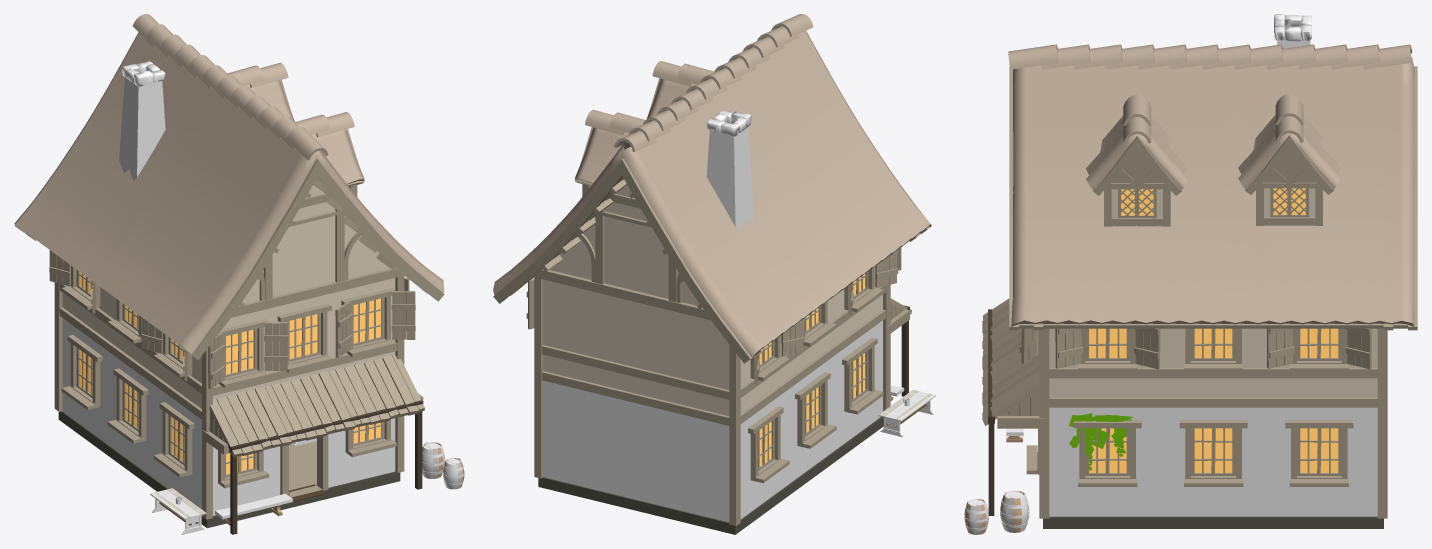
File: eastbrook_inn.glb
3 views of the same model, side by side, from view 1: azimuth 30°, elevation 25°; view 2: azimuth 150°, elevation 25°; view 3: azimuth 270°, elevation 25° (orthographic). The views are drawn at different scales.
Visible parts, largest first — view 1: inn:upper:village/MI_RoundTiles, inn:upper:village/MI_WoodTrim, inn:upper:village/MI_Plaster, inn:porch:village/MI_WoodTrim_Wear, inn:wall-left:village/MI_UnevenBrick, inn:wall-left:village/MI_WoodTrim, inn:upper:village/MI_WoodTrim_Wear, inn:exterior: (×4), inn:wall-front:village/MI_UnevenBrick, inn:interior:village/MI_WoodTrim, inn:upper:village/MI_Brick, inn:wall-front:village/MI_WoodTrim (+5 smaller); view 2: inn:upper:village/MI_RoundTiles, inn:upper:village/MI_Plaster, inn:wall-back:village/MI_UnevenBrick, inn:upper:village/MI_WoodTrim, inn:wall-left:village/MI_UnevenBrick, inn:wall-left:village/MI_WoodTrim, inn:exterior: (×2), inn:upper:village/MI_Brick, inn:interior:village/MI_WoodTrim, inn:upper:village/MI_WoodTrim_Wear, inn:wall-back:village/MI_WoodTrim, inn:exterior:props/MI_Trim_Furniture (+2 smaller); view 3: inn:upper:village/MI_RoundTiles, inn:wall-right:village/MI_UnevenBrick, inn:upper:village/MI_WoodTrim, inn:wall-right:village/MI_WoodTrim, inn:upper:village/MI_Plaster, inn:exterior: (×2), inn:porch:village/MI_WoodTrim_Wear, inn:upper:village/MI_WoodTrim_Wear, inn:upper:village/MI_WindowGlass, inn:wall-right:village/MI_WindowGlass, inn:interior:village/MI_WoodTrim, inn:exterior:props/MI_Trim_Furniture (×2) (+3 smaller).
Boxes of the visible parts, x1,y1,x2,y2 form: inn:upper:village/MI_RoundTiles: [14, 14, 444, 354]; inn:upper:village/MI_WoodTrim: [14, 79, 444, 419]; inn:upper:village/MI_Plaster: [62, 185, 395, 408]; inn:porch:village/MI_WoodTrim_Wear: [209, 355, 424, 457]; inn:wall-left:village/MI_UnevenBrick: [62, 318, 201, 509]; inn:wall-left:village/MI_WoodTrim: [59, 307, 201, 477]; inn:upper:village/MI_WoodTrim_Wear: [49, 250, 415, 388]; inn:exterior: (×4): [58, 400, 423, 534]; inn:wall-front:village/MI_UnevenBrick: [213, 418, 395, 515]; inn:interior:village/MI_WoodTrim: [54, 309, 404, 519]; inn:upper:village/MI_Brick: [119, 77, 165, 180]; inn:wall-front:village/MI_WoodTrim: [218, 419, 396, 497]; inn:upper:village/MI_RoundTiles: [493, 14, 931, 357]; inn:upper:village/MI_Plaster: [543, 185, 882, 416]; inn:wall-back:village/MI_UnevenBrick: [543, 380, 729, 522]; inn:upper:village/MI_WoodTrim: [493, 78, 931, 423]; inn:wall-left:village/MI_UnevenBrick: [740, 320, 882, 519]; inn:wall-left:village/MI_WoodTrim: [740, 309, 885, 483]; inn:exterior: (×2): [538, 320, 908, 534]; inn:upper:village/MI_Brick: [706, 127, 753, 230]; inn:interior:village/MI_WoodTrim: [534, 311, 890, 525]; inn:upper:village/MI_WoodTrim_Wear: [526, 247, 901, 384]; inn:wall-back:village/MI_WoodTrim: [541, 371, 729, 425]; inn:exterior:props/MI_Trim_Furniture: [878, 389, 935, 437]; inn:upper:village/MI_RoundTiles: [1008, 44, 1414, 326]; inn:wall-right:village/MI_UnevenBrick: [1049, 407, 1377, 516]; inn:upper:village/MI_WoodTrim: [1009, 66, 1417, 403]; inn:wall-right:village/MI_WoodTrim: [1049, 397, 1377, 486]; inn:upper:village/MI_Plaster: [1049, 188, 1377, 397]; inn:exterior: (×2): [988, 423, 1383, 528]; inn:porch:village/MI_WoodTrim_Wear: [982, 298, 1039, 425]; inn:upper:village/MI_WoodTrim_Wear: [1019, 328, 1371, 369]; inn:upper:village/MI_WindowGlass: [1089, 188, 1338, 357]; inn:wall-right:village/MI_WindowGlass: [1089, 428, 1338, 472]; inn:interior:village/MI_WoodTrim: [1039, 403, 1387, 518]; inn:exterior:props/MI_Trim_Furniture (×2): [964, 490, 1029, 534].
Bounding box in the file's own units: 8.28 × 11.2 × 10.72.
